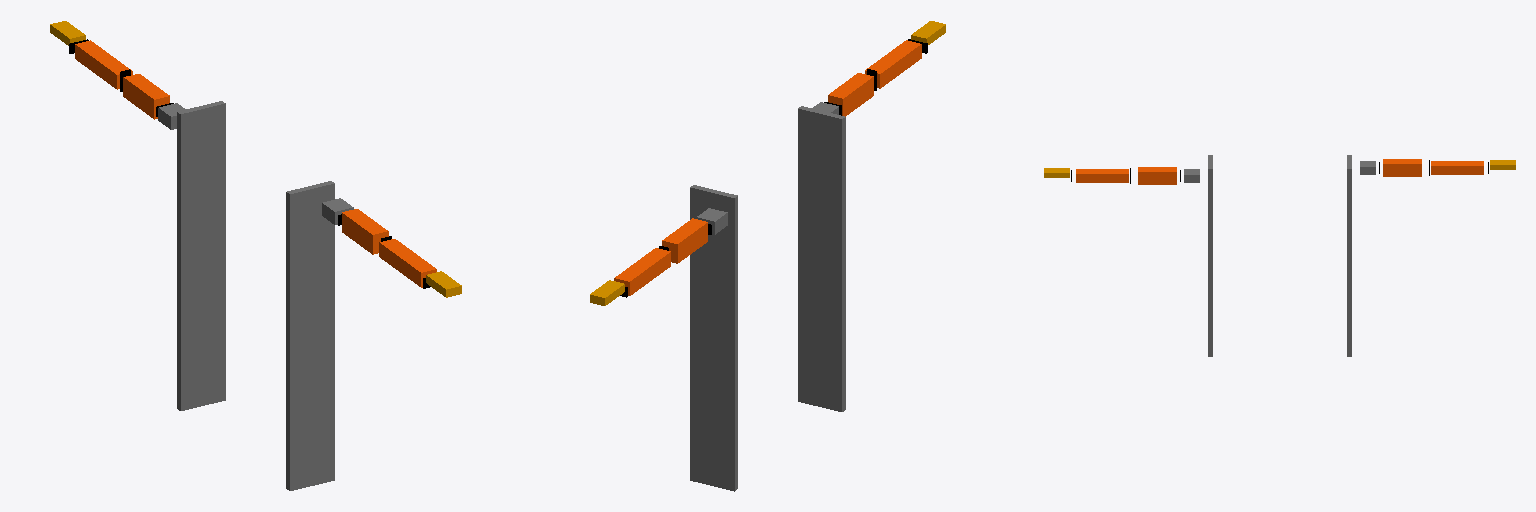
robot.urdf — open_manipulator_chain:
<?xml version="1.0" ?>
<!-- =================================================================================== -->
<!-- |    This document was autogenerated by xacro from open_manipulator_chain.xacro   | -->
<!-- |    EDITING THIS FILE BY HAND IS NOT RECOMMENDED                                 | -->
<!-- =================================================================================== -->
<!-- Open_Manipulator Chain -->
<robot name="open_manipulator_chain" xmlns:xacro="http://www.ros.org/wiki/xacro">
  <material name="black">
    <color rgba="0.0 0.0 0.0 1.0"/>
  </material>
  <material name="white">
    <color rgba="1.0 1.0 1.0 1.0"/>
  </material>
  <material name="red">
    <color rgba="0.8 0.0 0.0 1.0"/>
  </material>
  <material name="blue">
    <color rgba="0.0 0.0 0.8 1.0"/>
  </material>
  <material name="green">
    <color rgba="0.0 0.8 0.0 1.0"/>
  </material>
  <material name="grey">
    <color rgba="0.5 0.5 0.5 1.0"/>
  </material>
  <material name="orange">
    <color rgba="1.0 0.423529411765 0.0392156862745 1.0"/>
  </material>
  <material name="brown">
    <color rgba="0.870588235294 0.811764705882 0.764705882353 1.0"/>
  </material>
  <!-- World -->
  <link name="world"/>
  <!-- ****************************** -->
  <!--           Right Arm            -->
  <!-- ****************************** -->
  <!-- World fixed joint-->
  <joint name="world_fixed" type="fixed">
    <origin rpy="0 0 0" xyz="0 -0.3 0"/>
    <parent link="world"/>
    <child link="link1"/>
  </joint>
  <!-- Link 1 -->
  <link name="link1">
    <collision>
      <origin rpy="0 0 0" xyz="0 0.0 0.45"/>
      <geometry>
        <box size="0.143 0.02 0.9"/>
      </geometry>
    </collision>
    <visual>
      <origin rpy="0 0 0" xyz="0 0.0 0.45"/>
      <geometry>
        <box size="0.143 0.02 0.9"/>
      </geometry>
      <material name="grey"/>
    </visual>
    <inertial>
      <origin xyz="0 0.0 0.45"/>
      <mass value="0.01"/>
      <inertia ixx="0.001" ixy="0.0" ixz="0.0" iyy="0.001" iyz="0.0" izz="0.001"/>
    </inertial>
  </link>
  <!-- Joint 1 -->
  <joint name="joint1" type="revolute">
    <parent link="link1"/>
    <child link="link2"/>
    <origin rpy="3.141592 0 -1.5708" xyz="0.04 0 0.85"/>
    <axis xyz="1 0 0"/>
    <limit effort="30" lower="-2.144" upper="2.144" velocity="0.001"/>
  </joint>
  <!-- Transmission 1 -->
  <transmission name="tran1">
    <type>transmission_interface/SimpleTransmission</type>
    <joint name="joint1">
      <hardwareInterface>PositionJointInterface</hardwareInterface>
    </joint>
    <actuator name="motor1">
      <hardwareInterface>PositionJointInterface</hardwareInterface>
      <mechanicalReduction>1</mechanicalReduction>
    </actuator>
  </transmission>
  <!--  Link 2 -->
  <link name="link2">
    <collision>
      <origin rpy="0 0 0" xyz="0.08  0     0"/>
      <geometry>
        <box size="0.07  0.06  0.04"/>
      </geometry>
    </collision>
    <visual>
      <origin rpy="0 0 0" xyz="0.08  0     0"/>
      <geometry>
        <box size="0.07  0.06  0.04"/>
      </geometry>
      <material name="grey"/>
    </visual>
    <inertial>
      <origin xyz="0.08  0     0"/>
      <mass value="0.01"/>
      <inertia ixx="0.001" ixy="0.0" ixz="0.0" iyy="0.001" iyz="0.0" izz="0.001"/>
    </inertial>
  </link>
  <!--  Joint 2 -->
  <joint name="joint2" type="revolute">
    <parent link="link2"/>
    <child link="link3"/>
    <origin rpy="0 1.5707 0" xyz="0.1 0 0"/>
    <axis xyz="0 1 0"/>
    <limit effort="30" lower="-1.5708" upper="1.5708" velocity="0.001"/>
  </joint>
  <!-- Transmission 2 -->
  <transmission name="tran2">
    <type>transmission_interface/SimpleTransmission</type>
    <joint name="joint2">
      <hardwareInterface>PositionJointInterface</hardwareInterface>
    </joint>
    <actuator name="motor2">
      <hardwareInterface>PositionJointInterface</hardwareInterface>
      <mechanicalReduction>1</mechanicalReduction>
    </actuator>
  </transmission>
  <!--  Link 3 -->
  <link name="link3">
    <collision>
      <origin rpy="0 0 0" xyz="0 0 0.03"/>
      <geometry>
        <box size="0.03 0.055 0.005"/>
      </geometry>
    </collision>
    <visual>
      <origin rpy="0 0 0" xyz="0 0 0.03"/>
      <geometry>
        <box size="0.03 0.055 0.005"/>
      </geometry>
      <material name="black"/>
    </visual>
    <inertial>
      <origin rpy="0 0 0" xyz="0 0 0.03"/>
      <mass value="1"/>
      <inertia ixx="1.0" ixy="0.0" ixz="0.0" iyy="1.0" iyz="0.0" izz="1.0"/>
    </inertial>
  </link>
  <!--  Joint 3 -->
  <joint name="joint3" type="revolute">
    <parent link="link3"/>
    <child link="link4"/>
    <origin rpy="0 0 0" xyz="0 0 0.03"/>
    <axis xyz="0 0 1"/>
    <limit effort="30" lower="-1.8" upper="2.0" velocity="0.001"/>
  </joint>
  <!-- Transmission 3 -->
  <transmission name="tran3">
    <type>transmission_interface/SimpleTransmission</type>
    <joint name="joint3">
      <hardwareInterface>PositionJointInterface</hardwareInterface>
    </joint>
    <actuator name="motor3">
      <hardwareInterface>PositionJointInterface</hardwareInterface>
      <mechanicalReduction>1</mechanicalReduction>
    </actuator>
  </transmission>
  <!--  Link 4 -->
  <link name="link4">
    <collision>
      <origin rpy="0 0 0" xyz="0 0 0.1"/>
      <geometry>
        <box size="0.06 0.05 0.17"/>
      </geometry>
    </collision>
    <visual>
      <origin rpy="0 0 0" xyz="0 0 0.1"/>
      <geometry>
        <box size="0.06 0.05 0.17"/>
      </geometry>
      <material name="orange"/>
    </visual>
    <inertial>
      <origin rpy="0 0 0" xyz="0 0 0.1"/>
      <mass value="1"/>
      <inertia ixx="1.0" ixy="0.0" ixz="0.0" iyy="1.0" iyz="0.0" izz="1.0"/>
    </inertial>
  </link>
  <!--  Joint 4 -->
  <joint name="joint4" type="revolute">
    <parent link="link4"/>
    <child link="link5"/>
    <origin rpy="0 0 0" xyz="0 0 0.188"/>
    <axis xyz="-1 0 0"/>
    <limit effort="30" lower="-1.66" upper="1.66" velocity="0.001"/>
  </joint>
  <!-- Transmission 4 -->
  <transmission name="tran4">
    <type>transmission_interface/SimpleTransmission</type>
    <joint name="joint4">
      <hardwareInterface>PositionJointInterface</hardwareInterface>
    </joint>
    <actuator name="motor4">
      <hardwareInterface>PositionJointInterface</hardwareInterface>
      <mechanicalReduction>1</mechanicalReduction>
    </actuator>
  </transmission>
  <!--  Link 5 -->
  <link name="link5">
    <collision>
      <origin rpy="0 0 0" xyz="0 0 0.03"/>
      <geometry>
        <box size="0.06 0.03 0.005"/>
      </geometry>
    </collision>
    <visual>
      <origin rpy="0 0 0" xyz="0 0 0.03"/>
      <geometry>
        <box size="0.06 0.03 0.005"/>
      </geometry>
      <material name="black"/>
    </visual>
    <inertial>
      <origin rpy="0 0 0" xyz="0 0 0.03"/>
      <mass value="1"/>
      <inertia ixx="1.0" ixy="0.0" ixz="0.0" iyy="1.0" iyz="0.0" izz="1.0"/>
    </inertial>
  </link>
  <joint name="joint5" type="revolute">
    <parent link="link5"/>
    <child link="link6"/>
    <origin rpy="0 0 0" xyz="0 0 0.03"/>
    <axis xyz="0 0 1"/>
    <limit effort="30" lower="-1.57" upper="2.0" velocity="0.001"/>
  </joint>
  <!-- Transmission 5 -->
  <transmission name="tran5">
    <type>transmission_interface/SimpleTransmission</type>
    <joint name="joint5">
      <hardwareInterface>PositionJointInterface</hardwareInterface>
    </joint>
    <actuator name="motor5">
      <hardwareInterface>PositionJointInterface</hardwareInterface>
      <mechanicalReduction>1</mechanicalReduction>
    </actuator>
  </transmission>
  <link name="link6">
    <collision>
      <origin rpy="0 0 0" xyz="0 0 0.118"/>
      <geometry>
        <box size="0.045 0.05 0.23"/>
      </geometry>
    </collision>
    <visual>
      <origin rpy="0 0 0" xyz="0 0 0.118"/>
      <geometry>
        <box size="0.045 0.05 0.23"/>
      </geometry>
      <material name="orange"/>
    </visual>
    <inertial>
      <origin rpy="0 0 0" xyz="0 0 0.118"/>
      <mass value="1"/>
      <inertia ixx="1.0" ixy="0.0" ixz="0.0" iyy="1.0" iyz="0.0" izz="1.0"/>
    </inertial>
  </link>
  <joint name="joint6" type="revolute">
    <parent link="link6"/>
    <child link="link7"/>
    <origin rpy="0 0 0" xyz="0 0 0.225"/>
    <axis xyz="0 1 0"/>
    <limit effort="30" lower="-1.58" upper="1.58" velocity="0.001"/>
  </joint>
  <!-- Transmission 5 -->
  <transmission name="tran6">
    <type>transmission_interface/SimpleTransmission</type>
    <joint name="joint6">
      <hardwareInterface>PositionJointInterface</hardwareInterface>
    </joint>
    <actuator name="motor6">
      <hardwareInterface>PositionJointInterface</hardwareInterface>
      <mechanicalReduction>1</mechanicalReduction>
    </actuator>
  </transmission>
  <link name="link7">
    <collision>
      <origin rpy="0 0 0" xyz="0 0 0.03"/>
      <geometry>
        <box size="0.03 0.06 0.005"/>
      </geometry>
    </collision>
    <visual>
      <origin rpy="0 0 0" xyz="0 0 0.03"/>
      <geometry>
        <box size="0.03 0.06 0.005"/>
      </geometry>
      <material name="black"/>
    </visual>
    <inertial>
      <origin rpy="0 0 0" xyz="0 0 0.03"/>
      <mass value="1"/>
      <inertia ixx="1.0" ixy="0.0" ixz="0.0" iyy="1.0" iyz="0.0" izz="1.0"/>
    </inertial>
  </link>
  <joint name="joint7" type="revolute">
    <parent link="link7"/>
    <child link="link8"/>
    <origin rpy="0 0 0" xyz="0.015 0 0.03"/>
    <axis xyz="0 1 0"/>
    <limit effort="30" lower="-1.05" upper="1.06" velocity="0.001"/>
  </joint>
  <!-- Transmission 5 -->
  <transmission name="tran7">
    <type>transmission_interface/SimpleTransmission</type>
    <joint name="joint7">
      <hardwareInterface>PositionJointInterface</hardwareInterface>
    </joint>
    <actuator name="motor7">
      <hardwareInterface>PositionJointInterface</hardwareInterface>
      <mechanicalReduction>1</mechanicalReduction>
    </actuator>
  </transmission>
  <link name="link8">
    <collision>
      <origin rpy="0 0 0" xyz="0 0 0.06"/>
      <geometry>
        <box size="0.025 0.05 0.11"/>
      </geometry>
    </collision>
    <visual>
      <origin rpy="0 0 0" xyz="0 0 0.06"/>
      <geometry>
        <box size="0.025 0.05 0.11"/>
      </geometry>
      <material name="gray"/>
    </visual>
    <inertial>
      <origin rpy="0 0 0" xyz="0 0 0.06"/>
      <mass value="1"/>
      <inertia ixx="1.0" ixy="0.0" ixz="0.0" iyy="1.0" iyz="0.0" izz="1.0"/>
    </inertial>
  </link>
  <!-- ****************************** -->
  <!--            Left Arm            -->
  <!-- ****************************** -->
  <!-- World fixed joint-->
  <joint name="left_world_fixed" type="fixed">
    <origin rpy="0 0 3.141592654" xyz="0 0.3 0"/>
    <parent link="world"/>
    <child link="left_link1"/>
  </joint>
  <!-- Link 1 -->
  <link name="left_link1">
    <collision>
      <origin rpy="0 0 0" xyz="0 0.0 0.45"/>
      <geometry>
        <box size="0.143 0.02 0.9"/>
      </geometry>
    </collision>
    <visual>
      <origin rpy="0 0 0" xyz="0 0.0 0.45"/>
      <geometry>
        <box size="0.143 0.02 0.9"/>
      </geometry>
      <material name="grey"/>
    </visual>
    <inertial>
      <origin xyz="0 0.0 0.45"/>
      <mass value="0.01"/>
      <inertia ixx="0.001" ixy="0.0" ixz="0.0" iyy="0.001" iyz="0.0" izz="0.001"/>
    </inertial>
  </link>
  <!-- Joint 1 -->
  <joint name="left_joint1" type="revolute">
    <parent link="left_link1"/>
    <child link="left_link2"/>
    <origin rpy="3.141592 0 -1.5708" xyz="0.04 0 0.85"/>
    <axis xyz="-1 0 0"/>
    <limit effort="30" lower="-2.144" upper="2.144" velocity="0.001"/>
  </joint>
  <!-- Transmission 1 -->
  <transmission name="left_tran1">
    <type>transmission_interface/SimpleTransmission</type>
    <joint name="left_joint1">
      <hardwareInterface>PositionJointInterface</hardwareInterface>
    </joint>
    <actuator name="left_motor1">
      <hardwareInterface>PositionJointInterface</hardwareInterface>
      <mechanicalReduction>1</mechanicalReduction>
    </actuator>
  </transmission>
  <!--  Link 2 -->
  <link name="left_link2">
    <collision>
      <origin rpy="0 0 0" xyz="0.08  0     0"/>
      <geometry>
        <box size="0.07  0.06  0.04"/>
      </geometry>
    </collision>
    <visual>
      <origin rpy="0 0 0" xyz="0.08  0     0"/>
      <geometry>
        <box size="0.07  0.06  0.04"/>
      </geometry>
      <material name="grey"/>
    </visual>
    <inertial>
      <origin xyz="0.08  0     0"/>
      <mass value="0.01"/>
      <inertia ixx="0.001" ixy="0.0" ixz="0.0" iyy="0.001" iyz="0.0" izz="0.001"/>
    </inertial>
  </link>
  <!--  Joint 2 -->
  <joint name="left_joint2" type="revolute">
    <parent link="left_link2"/>
    <child link="left_link3"/>
    <origin rpy="0 1.5707 0" xyz="0.1 0 0"/>
    <axis xyz="0 1 0"/>
    <limit effort="30" lower="-1.5708" upper="1.5708" velocity="0.001"/>
  </joint>
  <!-- Transmission 2 -->
  <transmission name="left_tran2">
    <type>transmission_interface/SimpleTransmission</type>
    <joint name="left_joint2">
      <hardwareInterface>PositionJointInterface</hardwareInterface>
    </joint>
    <actuator name="left_motor2">
      <hardwareInterface>PositionJointInterface</hardwareInterface>
      <mechanicalReduction>1</mechanicalReduction>
    </actuator>
  </transmission>
  <!--  Link 3 -->
  <link name="left_link3">
    <collision>
      <origin rpy="0 0 0" xyz="0 0 0.03"/>
      <geometry>
        <box size="0.03 0.055 0.005"/>
      </geometry>
    </collision>
    <visual>
      <origin rpy="0 0 0" xyz="0 0 0.03"/>
      <geometry>
        <box size="0.03 0.055 0.005"/>
      </geometry>
      <material name="black"/>
    </visual>
    <inertial>
      <origin rpy="0 0 0" xyz="0 0 0.03"/>
      <mass value="1"/>
      <inertia ixx="1.0" ixy="0.0" ixz="0.0" iyy="1.0" iyz="0.0" izz="1.0"/>
    </inertial>
  </link>
  <!--  Joint 3 -->
  <joint name="left_joint3" type="revolute">
    <parent link="left_link3"/>
    <child link="left_link4"/>
    <origin rpy="0 0 0" xyz="0 0 0.03"/>
    <axis xyz="0 0 -1"/>
    <limit effort="30" lower="-1.8" upper="2.0" velocity="0.001"/>
  </joint>
  <!-- Transmission 3 -->
  <transmission name="left_tran3">
    <type>transmission_interface/SimpleTransmission</type>
    <joint name="left_joint3">
      <hardwareInterface>PositionJointInterface</hardwareInterface>
    </joint>
    <actuator name="left_motor3">
      <hardwareInterface>PositionJointInterface</hardwareInterface>
      <mechanicalReduction>1</mechanicalReduction>
    </actuator>
  </transmission>
  <!--  Link 4 -->
  <link name="left_link4">
    <collision>
      <origin rpy="0 0 0" xyz="0 0 0.1"/>
      <geometry>
        <box size="0.06 0.05 0.17"/>
      </geometry>
    </collision>
    <visual>
      <origin rpy="0 0 0" xyz="0 0 0.1"/>
      <geometry>
        <box size="0.06 0.05 0.17"/>
      </geometry>
      <material name="orange"/>
    </visual>
    <inertial>
      <origin rpy="0 0 0" xyz="0 0 0.1"/>
      <mass value="1"/>
      <inertia ixx="1.0" ixy="0.0" ixz="0.0" iyy="1.0" iyz="0.0" izz="1.0"/>
    </inertial>
  </link>
  <!--  Joint 4 -->
  <joint name="left_joint4" type="revolute">
    <parent link="left_link4"/>
    <child link="left_link5"/>
    <origin rpy="0 0 0" xyz="0 0 0.188"/>
    <axis xyz="1 0 0"/>
    <limit effort="30" lower="-1.66" upper="1.66" velocity="0.001"/>
  </joint>
  <!-- Transmission 4 -->
  <transmission name="left_tran4">
    <type>transmission_interface/SimpleTransmission</type>
    <joint name="left_joint4">
      <hardwareInterface>PositionJointInterface</hardwareInterface>
    </joint>
    <actuator name="left_motor4">
      <hardwareInterface>PositionJointInterface</hardwareInterface>
      <mechanicalReduction>1</mechanicalReduction>
    </actuator>
  </transmission>
  <!--  Link 5 -->
  <link name="left_link5">
    <collision>
      <origin rpy="0 0 0" xyz="0 0 0.03"/>
      <geometry>
        <box size="0.06 0.03 0.005"/>
      </geometry>
    </collision>
    <visual>
      <origin rpy="0 0 0" xyz="0 0 0.03"/>
      <geometry>
        <box size="0.06 0.03 0.005"/>
      </geometry>
      <material name="black"/>
    </visual>
    <inertial>
      <origin rpy="0 0 0" xyz="0 0 0.03"/>
      <mass value="1"/>
      <inertia ixx="1.0" ixy="0.0" ixz="0.0" iyy="1.0" iyz="0.0" izz="1.0"/>
    </inertial>
  </link>
  <joint name="left_joint5" type="revolute">
    <parent link="left_link5"/>
    <child link="left_link6"/>
    <origin rpy="0 0 0" xyz="0 0 0.03"/>
    <axis xyz="0 0 -1"/>
    <limit effort="30" lower="-1.57" upper="2.0" velocity="0.001"/>
  </joint>
  <!-- Transmission 5 -->
  <transmission name="left_tran5">
    <type>transmission_interface/SimpleTransmission</type>
    <joint name="left_joint5">
      <hardwareInterface>PositionJointInterface</hardwareInterface>
    </joint>
    <actuator name="left_motor5">
      <hardwareInterface>PositionJointInterface</hardwareInterface>
      <mechanicalReduction>1</mechanicalReduction>
    </actuator>
  </transmission>
  <link name="left_link6">
    <collision>
      <origin rpy="0 0 0" xyz="0 0 0.118"/>
      <geometry>
        <box size="0.045 0.05 0.23"/>
      </geometry>
    </collision>
    <visual>
      <origin rpy="0 0 0" xyz="0 0 0.118"/>
      <geometry>
        <box size="0.045 0.05 0.23"/>
      </geometry>
      <material name="orange"/>
    </visual>
    <inertial>
      <origin rpy="0 0 0" xyz="0 0 0.118"/>
      <mass value="1"/>
      <inertia ixx="1.0" ixy="0.0" ixz="0.0" iyy="1.0" iyz="0.0" izz="1.0"/>
    </inertial>
  </link>
  <joint name="left_joint6" type="revolute">
    <parent link="left_link6"/>
    <child link="left_link7"/>
    <origin rpy="0 0 0" xyz="0 0 0.225"/>
    <axis xyz="0 1 0"/>
    <limit effort="30" lower="-1.58" upper="1.58" velocity="0.001"/>
  </joint>
  <!-- Transmission 5 -->
  <transmission name="left_tran6">
    <type>transmission_interface/SimpleTransmission</type>
    <joint name="left_joint6">
      <hardwareInterface>PositionJointInterface</hardwareInterface>
    </joint>
    <actuator name="left_motor6">
      <hardwareInterface>PositionJointInterface</hardwareInterface>
      <mechanicalReduction>1</mechanicalReduction>
    </actuator>
  </transmission>
  <link name="left_link7">
    <collision>
      <origin rpy="0 0 0" xyz="0 0 0.03"/>
      <geometry>
        <box size="0.03 0.06 0.005"/>
      </geometry>
    </collision>
    <visual>
      <origin rpy="0 0 0" xyz="0 0 0.03"/>
      <geometry>
        <box size="0.03 0.06 0.005"/>
      </geometry>
      <material name="black"/>
    </visual>
    <inertial>
      <origin rpy="0 0 0" xyz="0 0 0.03"/>
      <mass value="1"/>
      <inertia ixx="1.0" ixy="0.0" ixz="0.0" iyy="1.0" iyz="0.0" izz="1.0"/>
    </inertial>
  </link>
  <joint name="left_joint7" type="revolute">
    <parent link="left_link7"/>
    <child link="left_link8"/>
    <origin rpy="0 0 0" xyz="0.015 0 0.03"/>
    <axis xyz="0 1 0"/>
    <limit effort="30" lower="-1.05" upper="1.06" velocity="0.001"/>
  </joint>
  <!-- Transmission 5 -->
  <transmission name="left_tran7">
    <type>transmission_interface/SimpleTransmission</type>
    <joint name="left_joint7">
      <hardwareInterface>PositionJointInterface</hardwareInterface>
    </joint>
    <actuator name="left_motor7">
      <hardwareInterface>PositionJointInterface</hardwareInterface>
      <mechanicalReduction>1</mechanicalReduction>
    </actuator>
  </transmission>
  <link name="left_link8">
    <collision>
      <origin rpy="0 0 0" xyz="0 0 0.06"/>
      <geometry>
        <box size="0.025 0.05 0.11"/>
      </geometry>
    </collision>
    <visual>
      <origin rpy="0 0 0" xyz="0 0 0.06"/>
      <geometry>
        <box size="0.025 0.05 0.11"/>
      </geometry>
      <material name="gray"/>
    </visual>
    <inertial>
      <origin rpy="0 0 0" xyz="0 0 0.06"/>
      <mass value="1"/>
      <inertia ixx="1.0" ixy="0.0" ixz="0.0" iyy="1.0" iyz="0.0" izz="1.0"/>
    </inertial>
  </link>
</robot>

--- Render facts (derived) ---
Views: 3 orthographic renders of the robot side by side, from view 1: azimuth 30°, elevation 25°; view 2: azimuth 150°, elevation 25°; view 3: azimuth 270°, elevation 25°.
Model open_manipulator_chain with 17 links and 16 joints (14 revolute, 2 fixed), rooted at world, posed all joints at 0.
Visible links, largest first — view 1: left_link1, link1, link6, left_link6, link4, left_link4, link8, left_link8; view 2: link1, left_link1, left_link6, link6, left_link4, link4, left_link8, link8; view 3: link1, left_link1, link6, left_link6, link4, left_link4.
Boxes of the visible links, x1=… form: left_link1: x1=177, y1=101, x2=225, y2=410; link1: x1=286, y1=181, x2=334, y2=490; link6: x1=379, y1=239, x2=436, y2=287; left_link6: x1=75, y1=40, x2=132, y2=89; link4: x1=342, y1=209, x2=388, y2=254; left_link4: x1=123, y1=74, x2=169, y2=119; link8: x1=426, y1=271, x2=461, y2=297; left_link8: x1=50, y1=21, x2=85, y2=45; link1: x1=798, y1=106, x2=845, y2=411; left_link1: x1=690, y1=185, x2=737, y2=491; left_link6: x1=614, y1=248, x2=670, y2=295; link6: x1=865, y1=40, x2=921, y2=88; left_link4: x1=662, y1=218, x2=707, y2=263; link4: x1=828, y1=73, x2=873, y2=116; left_link8: x1=590, y1=280, x2=624, y2=305; link8: x1=911, y1=21, x2=945, y2=44; link1: x1=1208, y1=155, x2=1212, y2=356; left_link1: x1=1347, y1=155, x2=1351, y2=356; link6: x1=1076, y1=169, x2=1128, y2=182; left_link6: x1=1431, y1=161, x2=1483, y2=174; link4: x1=1138, y1=167, x2=1176, y2=184; left_link4: x1=1383, y1=159, x2=1421, y2=176.
Size in the robot's own frame: 0.143 by 2.04 by 0.9 metres.
Geometry: primitives only (box / cylinder / sphere), no mesh files.